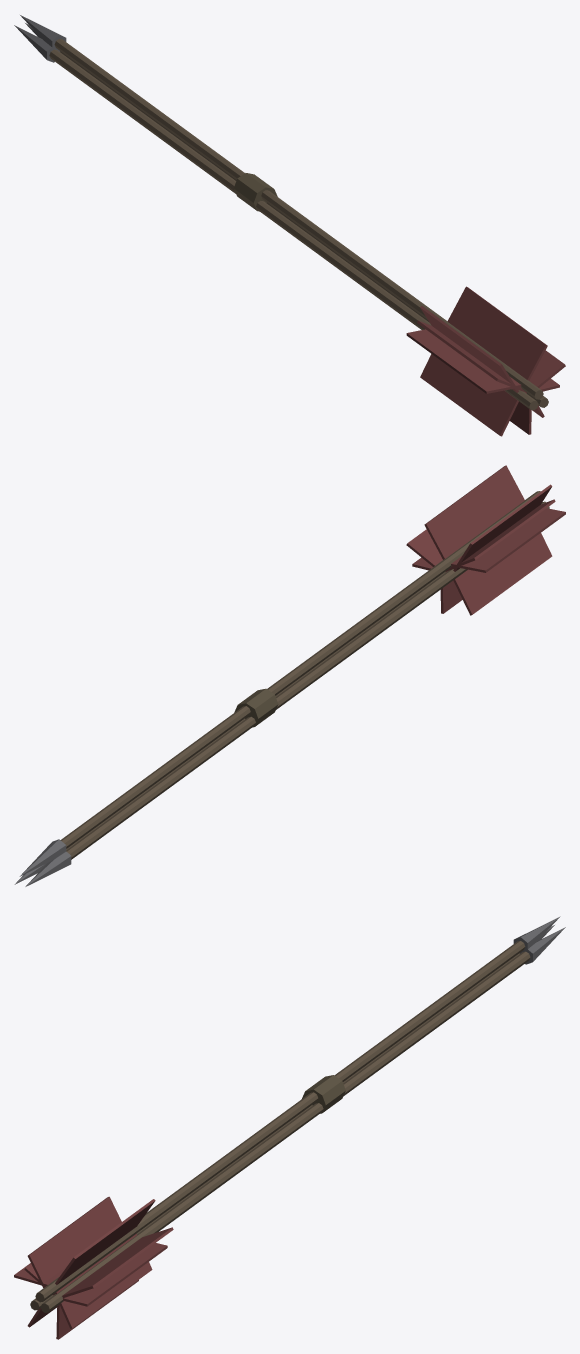
Rendered from arrows.glb.
3 renders of one model, top to bottom at view 1: azimuth 30°, elevation 25°; view 2: azimuth 150°, elevation 25°; view 3: azimuth 330°, elevation 25°, orthographic.
Visible parts, largest first — view 1: arrows; view 2: arrows; view 3: arrows.
Part boxes in pixels (<box>): arrows: <box>14,15,565,436</box>; arrows: <box>14,465,565,886</box>; arrows: <box>14,916,565,1339</box>.
Bounding box in the file's own units: 0.0688 × 0.071 × 0.78.
